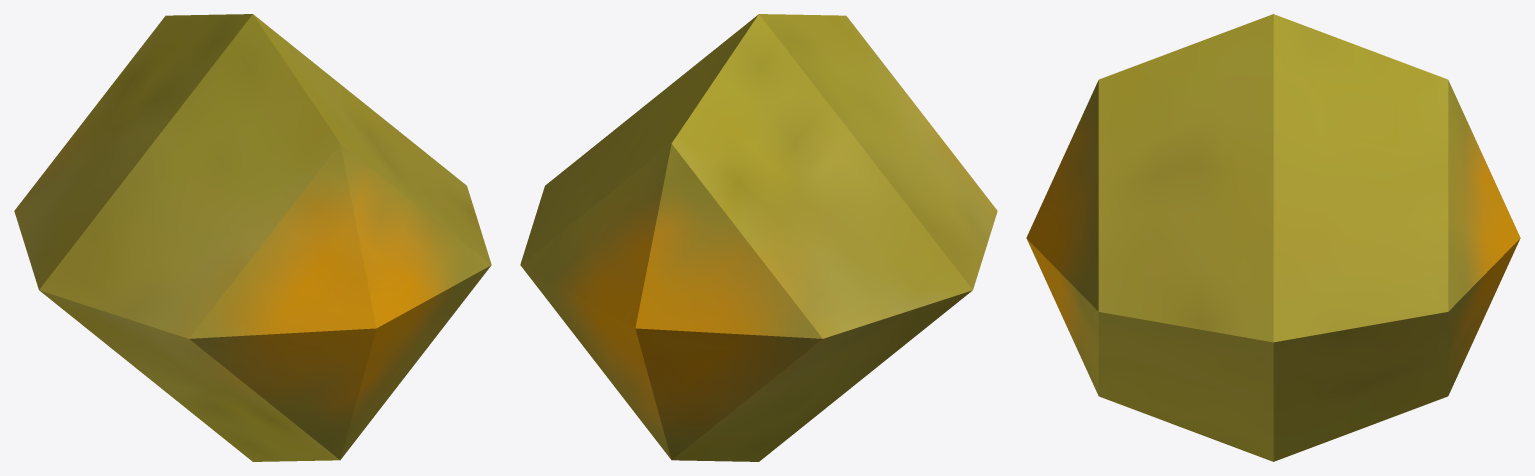
File: olive.fbx
3 renders of one model, left to right at view 1: azimuth 30°, elevation 25°; view 2: azimuth 150°, elevation 25°; view 3: azimuth 270°, elevation 25°, orthographic.
Parts seen in each view (by area): view 1: Olive; view 2: Olive; view 3: Olive.
Part boxes in pixels (box(x1,y1,x2,y2)): Olive: box(14, 14, 491, 461); Olive: box(520, 14, 997, 461); Olive: box(1026, 14, 1520, 461).
Size of the model in its own units: 0.0389 by 0.0389 by 0.0389.
